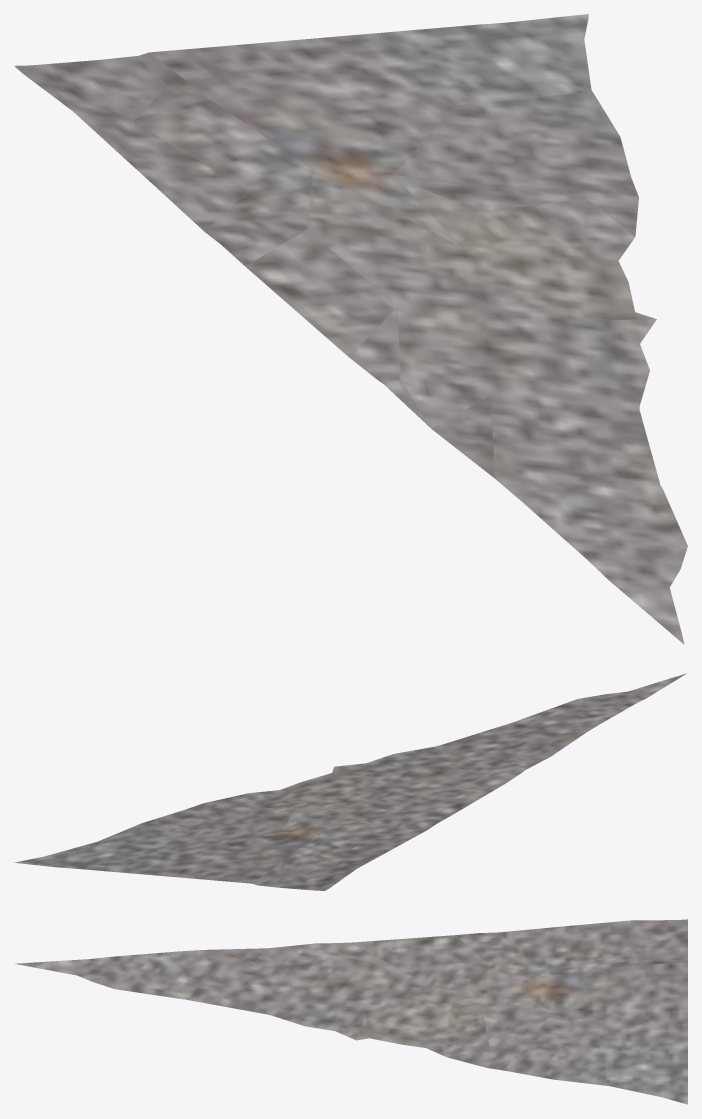
3 renders of one model, top to bottom at view 1: azimuth 30°, elevation 25°; view 2: azimuth 150°, elevation 25°; view 3: azimuth 270°, elevation 25°, orthographic. The views are drawn at different scales.
Bounding box in the file's own units: 0.4529 × 0.0665 × 0.9156.
1 material, 1 textured.
